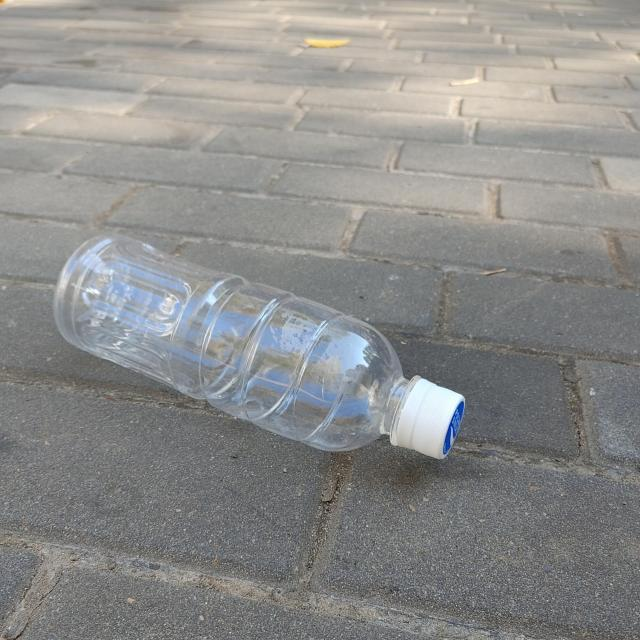plastic: (53, 235, 465, 460)
